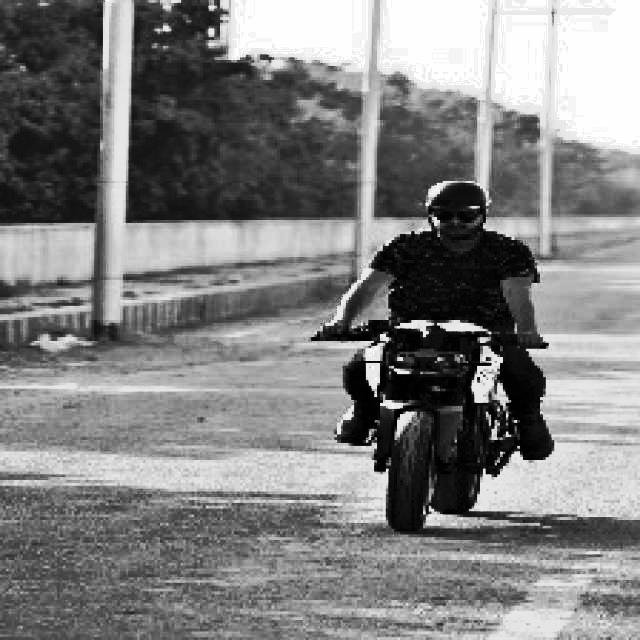Bike: (349, 320, 519, 533)
